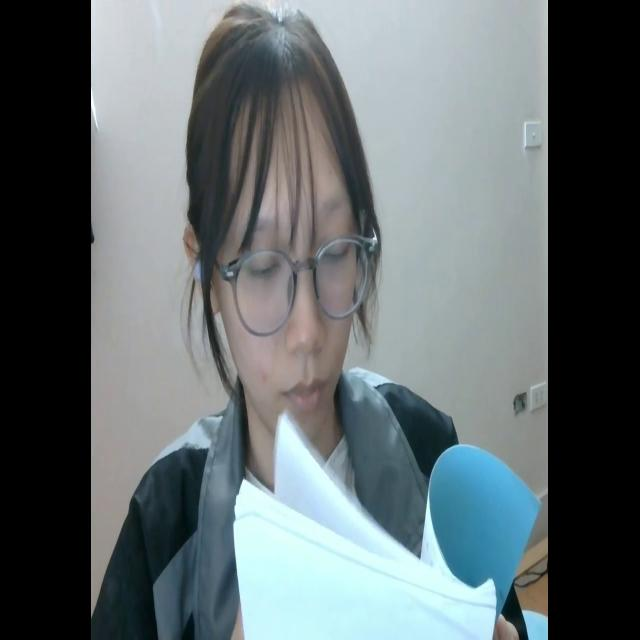book: (223, 403, 542, 640)
student: (107, 0, 533, 640)
